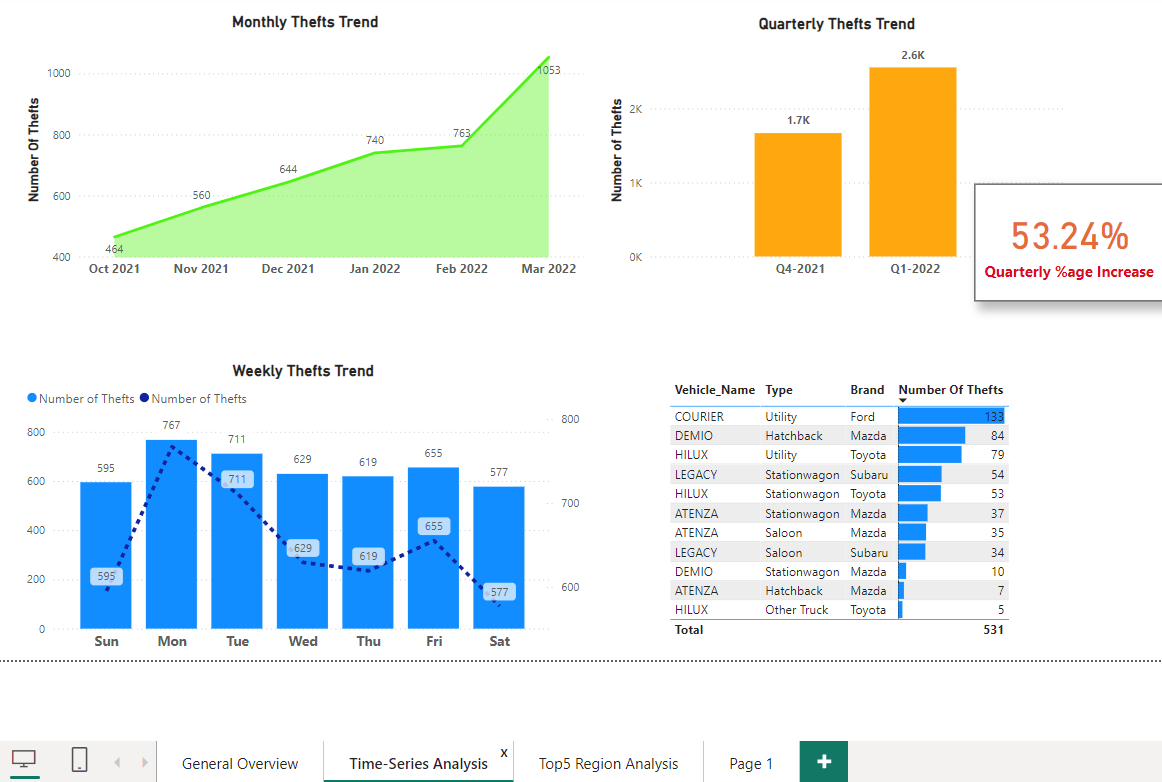

Layout of this report page (visuals, bound fields, positions):
{"tool":"powerbi","page":{"name":"Time-Series Analysis","canvas":[1280,720],"ordinal":1},"visuals":[{"type":"areaChart","title":"Monthly Thefts Trend","fields":{"Category":["Date.Year Month","Date.Date"],"Y":["stolen_vehicles_db stolen_vehicles.Number Of Thefts"]},"box":[27.1,18.9,613.1,296.4],"z":0},{"type":"columnChart","title":"Quarterly Thefts Trend","fields":{"Category":["Date.Year Quarter"],"Y":["Count(stolen_vehicles_db stolen_vehicles.vehicle_id)"]},"box":[657.7,20.3,503.4,295],"z":1000},{"type":"lineClusteredColumnComboChart","title":"Weekly Thefts Trend","fields":{"Category":["Date.Day of Week"],"Y":["Count(stolen_vehicles_db stolen_vehicles.vehicle_id)"],"Y2":["Count(stolen_vehicles_db stolen_vehicles.vehicle_id)"]},"box":[27.1,396.5,609,323.5],"z":2000},{"type":"card","fields":{"Values":["Date.Quarterly %age increase"]},"box":[1058.3,204.4,205.7,127.2],"z":3000},{"type":"tableEx","fields":{"Values":["stolen_vehicles_db stolen_vehicles.vehicle_desc","stolen_vehicles_db stolen_vehicles.vehicle_type","stolen_vehicles_db make_details.make_name","stolen_vehicles_db stolen_vehicles.Number Of Thefts"]},"box":[722.7,411.4,391.1,295],"z":4000}]}

Visuals, with their boxes on the page's 1280x720 design canvas (x1, y1, x2, y2). These are canvas units, not pixel positions in the 1162x782 screenshot, which may show the page scaled, cropped or inside an application window:
"Monthly Thefts Trend" areaChart: 27:19:640:315
"Quarterly Thefts Trend" columnChart: 658:20:1161:315
"Weekly Thefts Trend" lineClusteredColumnComboChart: 27:396:636:720
card - Date.Quarterly %age increase: 1058:204:1264:332
tableEx - stolen_vehicles_db stolen_vehicles.vehicle_desc x stolen_vehicles_db stolen_vehicles.vehicle_type: 723:411:1114:706
